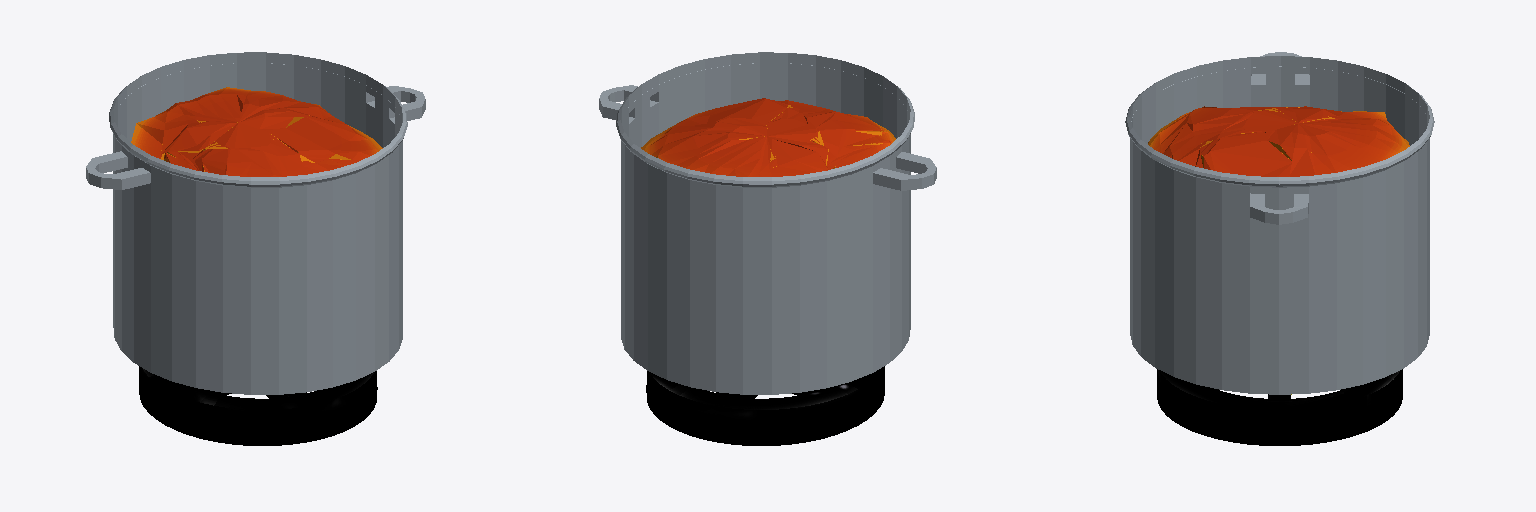
The picture shows the model from 3 angles: view 1: azimuth 30°, elevation 25°; view 2: azimuth 150°, elevation 25°; view 3: azimuth 270°, elevation 25°; orthographic projection.
Visible parts, largest first — view 1: Cylinder.003, Sphere.013, Cylinder.002; view 2: Cylinder.003, Sphere.013, Cylinder.002; view 3: Cylinder.003, Sphere.013, Cylinder.002.
Part boxes in pixels (bbox=[...]): Cylinder.003: bbox=[86, 52, 425, 394]; Sphere.013: bbox=[131, 87, 382, 176]; Cylinder.002: bbox=[139, 366, 377, 445]; Cylinder.003: bbox=[599, 52, 936, 394]; Sphere.013: bbox=[641, 98, 895, 176]; Cylinder.002: bbox=[646, 366, 884, 445]; Cylinder.003: bbox=[1125, 52, 1434, 394]; Sphere.013: bbox=[1148, 106, 1409, 176]; Cylinder.002: bbox=[1157, 369, 1402, 445].
Bounding box in the file's own units: 3.37 × 2.72 × 2.71.
3 materials, 3 textured.